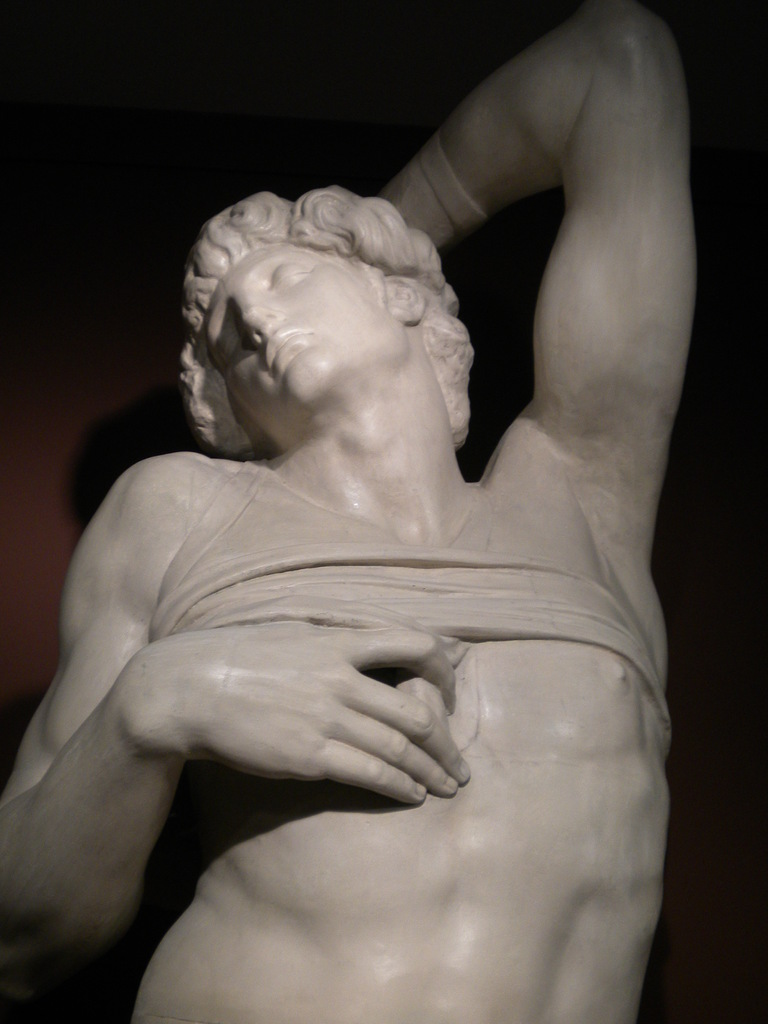face: (216, 234, 372, 409)
